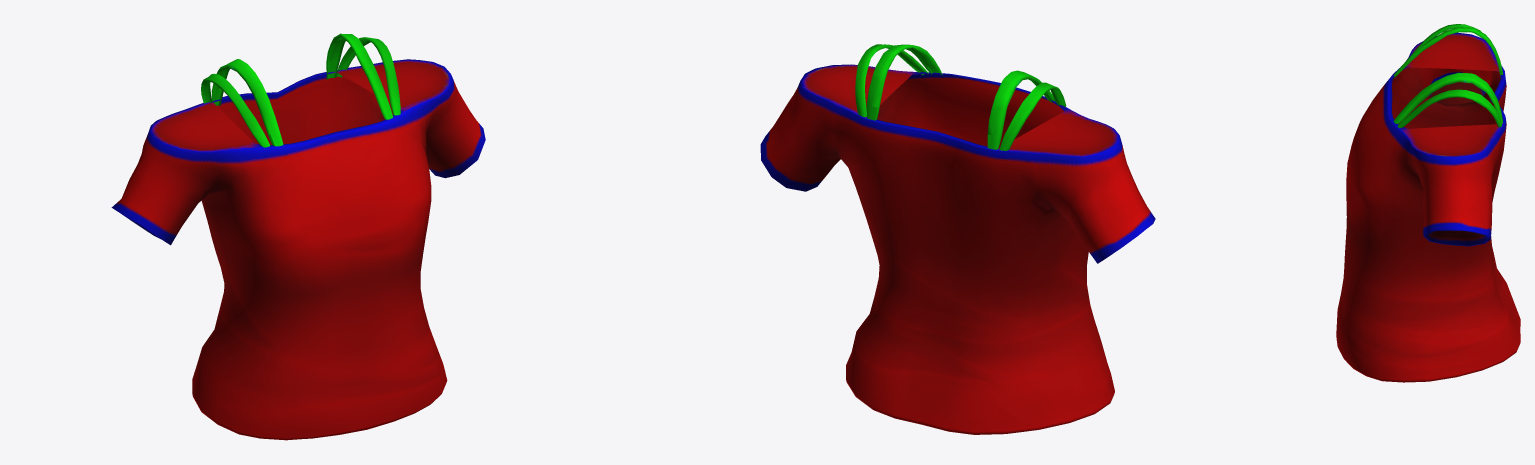
The model's file is Top_OpenShoulderStraps.obj.
3 views of the same model, side by side, from view 1: azimuth 30°, elevation 25°; view 2: azimuth 150°, elevation 25°; view 3: azimuth 270°, elevation 25° (orthographic). The views are drawn at different scales.
Parts seen in each view (by area): view 1: Top_OpenShoulderStraps_0; view 2: Top_OpenShoulderStraps_0; view 3: Top_OpenShoulderStraps_0.
Boxes of the visible parts, box(x1,y1,x2,y2) form: Top_OpenShoulderStraps_0: box(111, 33, 485, 440); Top_OpenShoulderStraps_0: box(760, 44, 1155, 434); Top_OpenShoulderStraps_0: box(1336, 24, 1520, 382).
Bounding box in the file's own units: 0.8632 × 0.4905 × 0.2583.
Materials: 1 (1 with a texture image).
